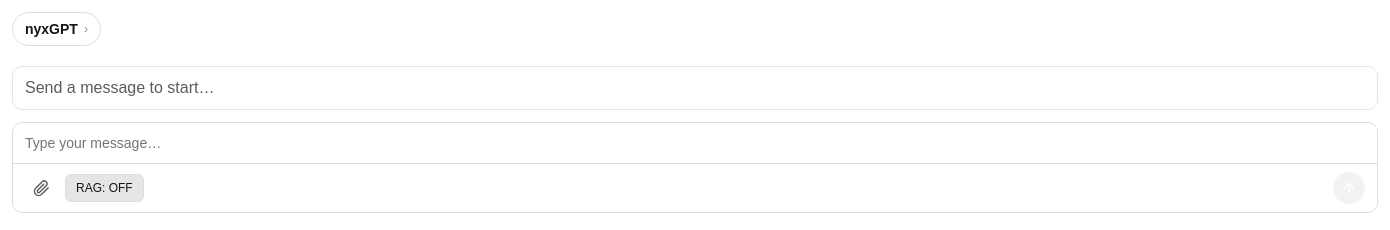
Test: ChatPane send() SSE streaming › surfaces a reader read failure as an assistant error message
This screenshot has width=1390, height=230.
Type "reader fails" into the field with placeholder "Type your message…" at (695, 143), box [13, 123, 1377, 163]
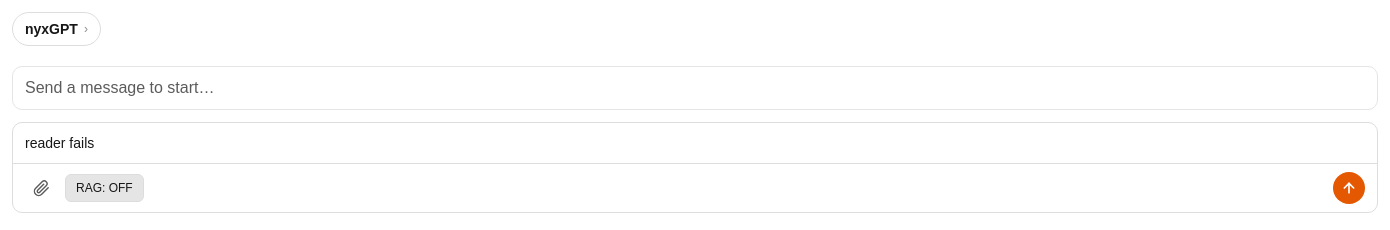
Click the button titled "Send message" at (1349, 188), box [1333, 172, 1365, 204]
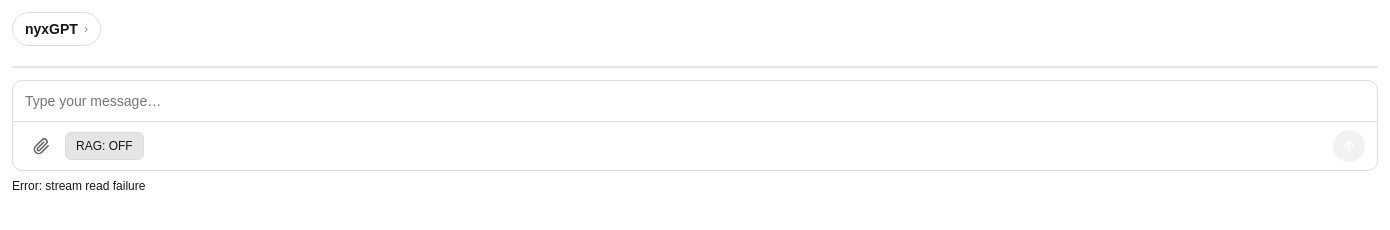
Expected: the text "Error: stream read failure" is shown, [12, 179, 145, 193]
